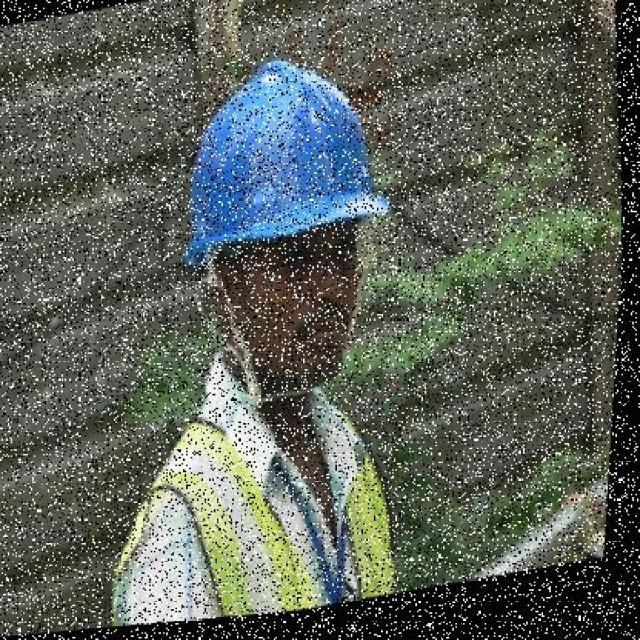helmet: (160, 31, 410, 281)
vest: (101, 382, 423, 630)
